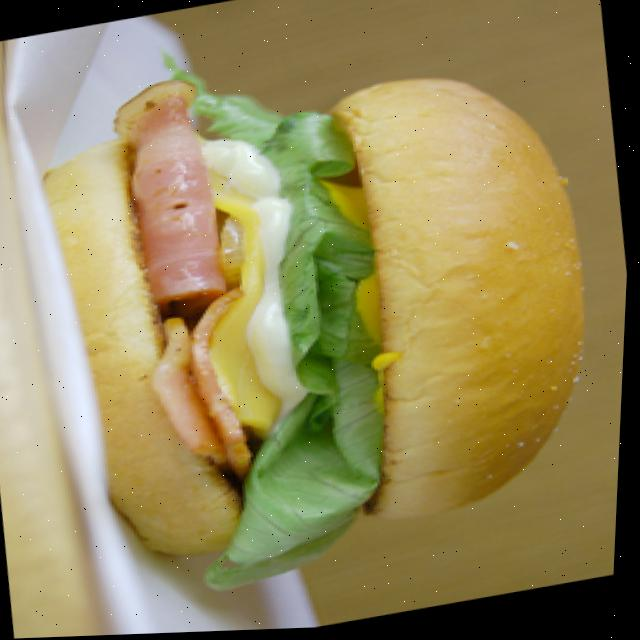汉堡快餐: (13, 13, 639, 600)
